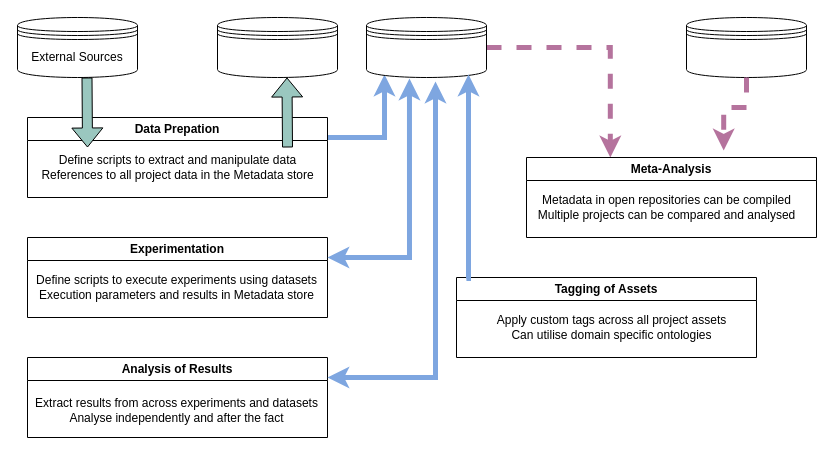
This 834x455 diagram has some shape labels left out. Here are the shapes that lost their labels. From the top down, the centre of each, then its label:
At (277,47): "Processed Data".
At (426,47): "Projit Metadata".
At (746,47): "Other Metadata".
